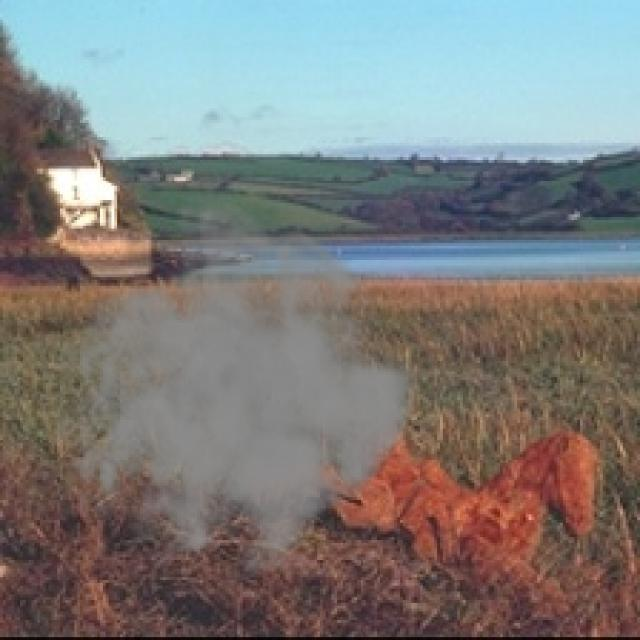Smoke: (51, 188, 423, 594)
